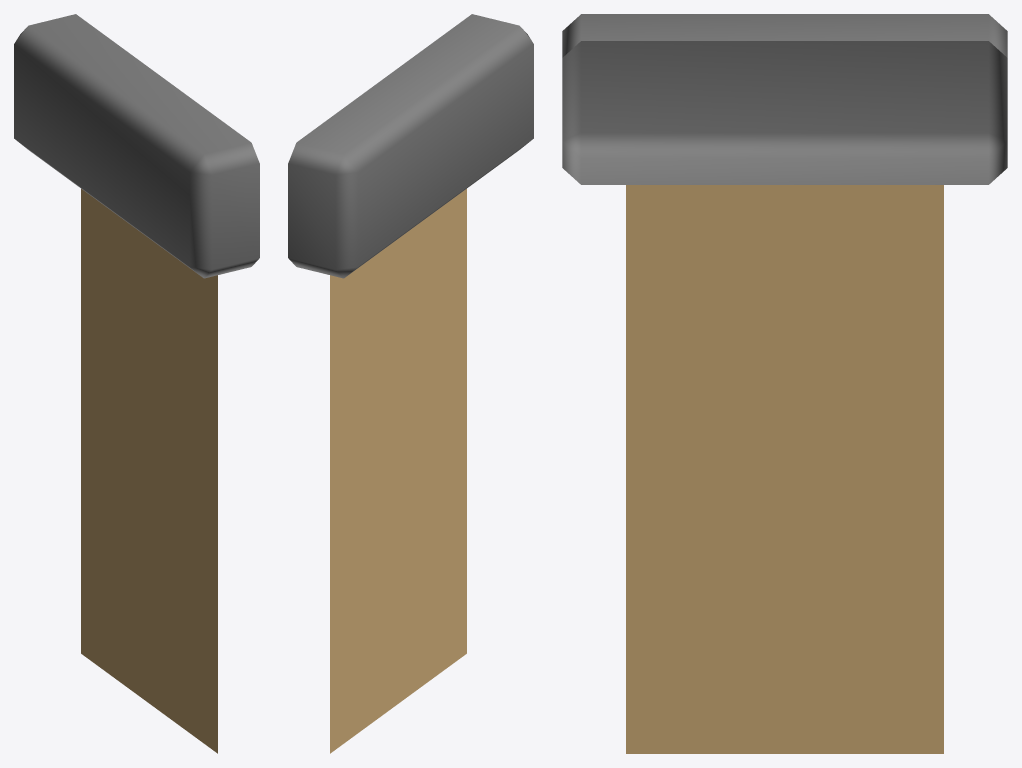
The model's file is SM_WallEndB_2_LOD0.fbx.
3 renders of one model, left to right at view 1: azimuth 30°, elevation 25°; view 2: azimuth 150°, elevation 25°; view 3: azimuth 270°, elevation 25°, orthographic. The views are drawn at different scales.
Parts seen in each view (by area): view 1: SM_WallEndB_2_LOD0; view 2: SM_WallEndB_2_LOD0; view 3: SM_WallEndB_2_LOD0.
Part boxes in pixels (box(x1,y1,x2,y2)): SM_WallEndB_2_LOD0: box(14, 14, 259, 753); SM_WallEndB_2_LOD0: box(288, 14, 533, 753); SM_WallEndB_2_LOD0: box(562, 14, 1007, 753).
Bounding box in the file's own units: 0.26 × 2.5 × 1.4.
